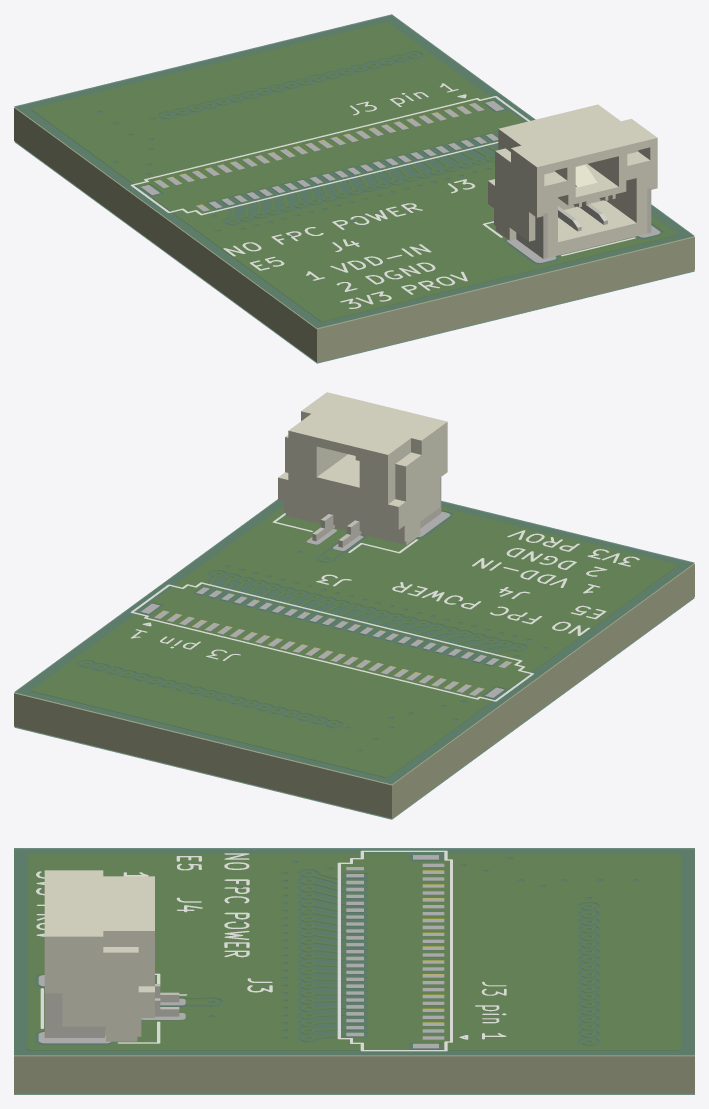
The model's file is ldo-e5.glb.
3 renders of one model, top to bottom at view 1: azimuth 30°, elevation 25°; view 2: azimuth 150°, elevation 25°; view 3: azimuth 270°, elevation 25°, orthographic. The views are drawn at different scales.
Parts seen in each view (by area): view 1: Material-batched review assembly; view 2: Material-batched review assembly; view 3: Material-batched review assembly.
Boxes of the visible parts, x1,y1,x2,y2 form: Material-batched review assembly: [14, 14, 694, 363]; Material-batched review assembly: [14, 392, 694, 819]; Material-batched review assembly: [14, 848, 694, 1094].
Size of the model in its own units: 0.018 by 0.00591 by 0.025.
